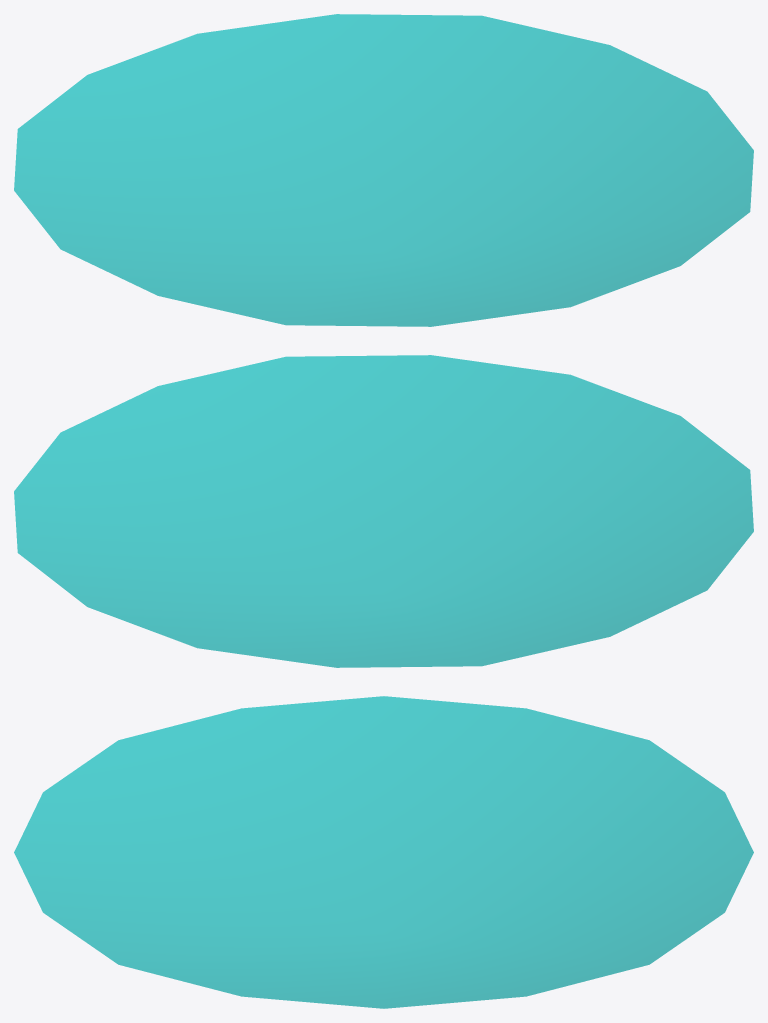
File: dummy_fri1.gltf
3 views of the same model, one above another, from view 1: azimuth 30°, elevation 25°; view 2: azimuth 150°, elevation 25°; view 3: azimuth 270°, elevation 25° (orthographic).
Parts seen in each view (by area): view 1: dummy_fri1; view 2: dummy_fri1; view 3: dummy_fri1.
Part boxes in pixels (x1,y1,x2,y2): dummy_fri1: (14, 14, 753, 326); dummy_fri1: (14, 355, 753, 667); dummy_fri1: (14, 696, 753, 1008).
Bounding box in the file's own units: 0.8584 × 0.105 × 0.8584.
